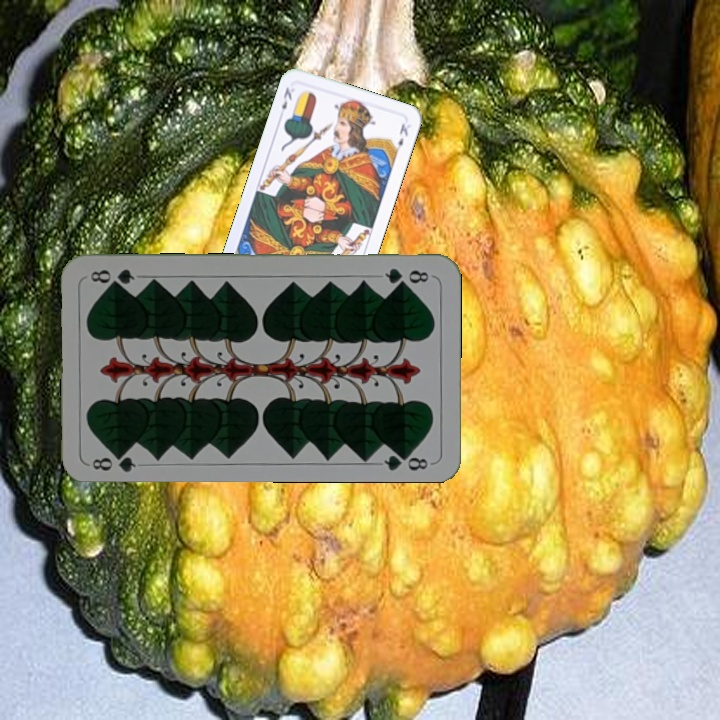EK: (278, 83, 295, 112)
G8: (85, 446, 138, 473), (381, 264, 432, 288)
